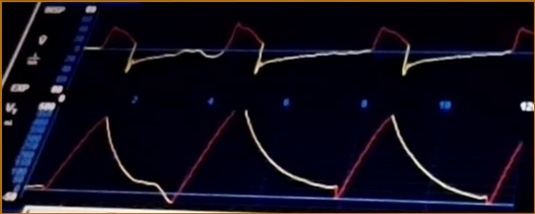Ineffective_effort Flow: (87, 17, 535, 82)
Ineffective_effort Volume: (30, 110, 522, 208)
